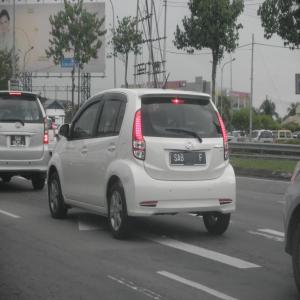Vehicle-registration-plate: (170, 153, 207, 166), (11, 135, 27, 148)
